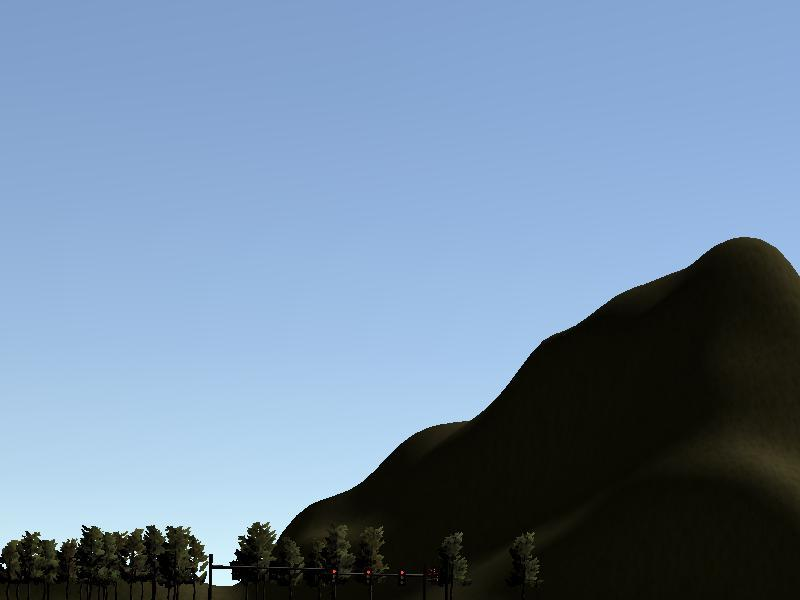Red: (330, 566, 336, 582), (398, 569, 404, 580), (366, 567, 371, 580)
